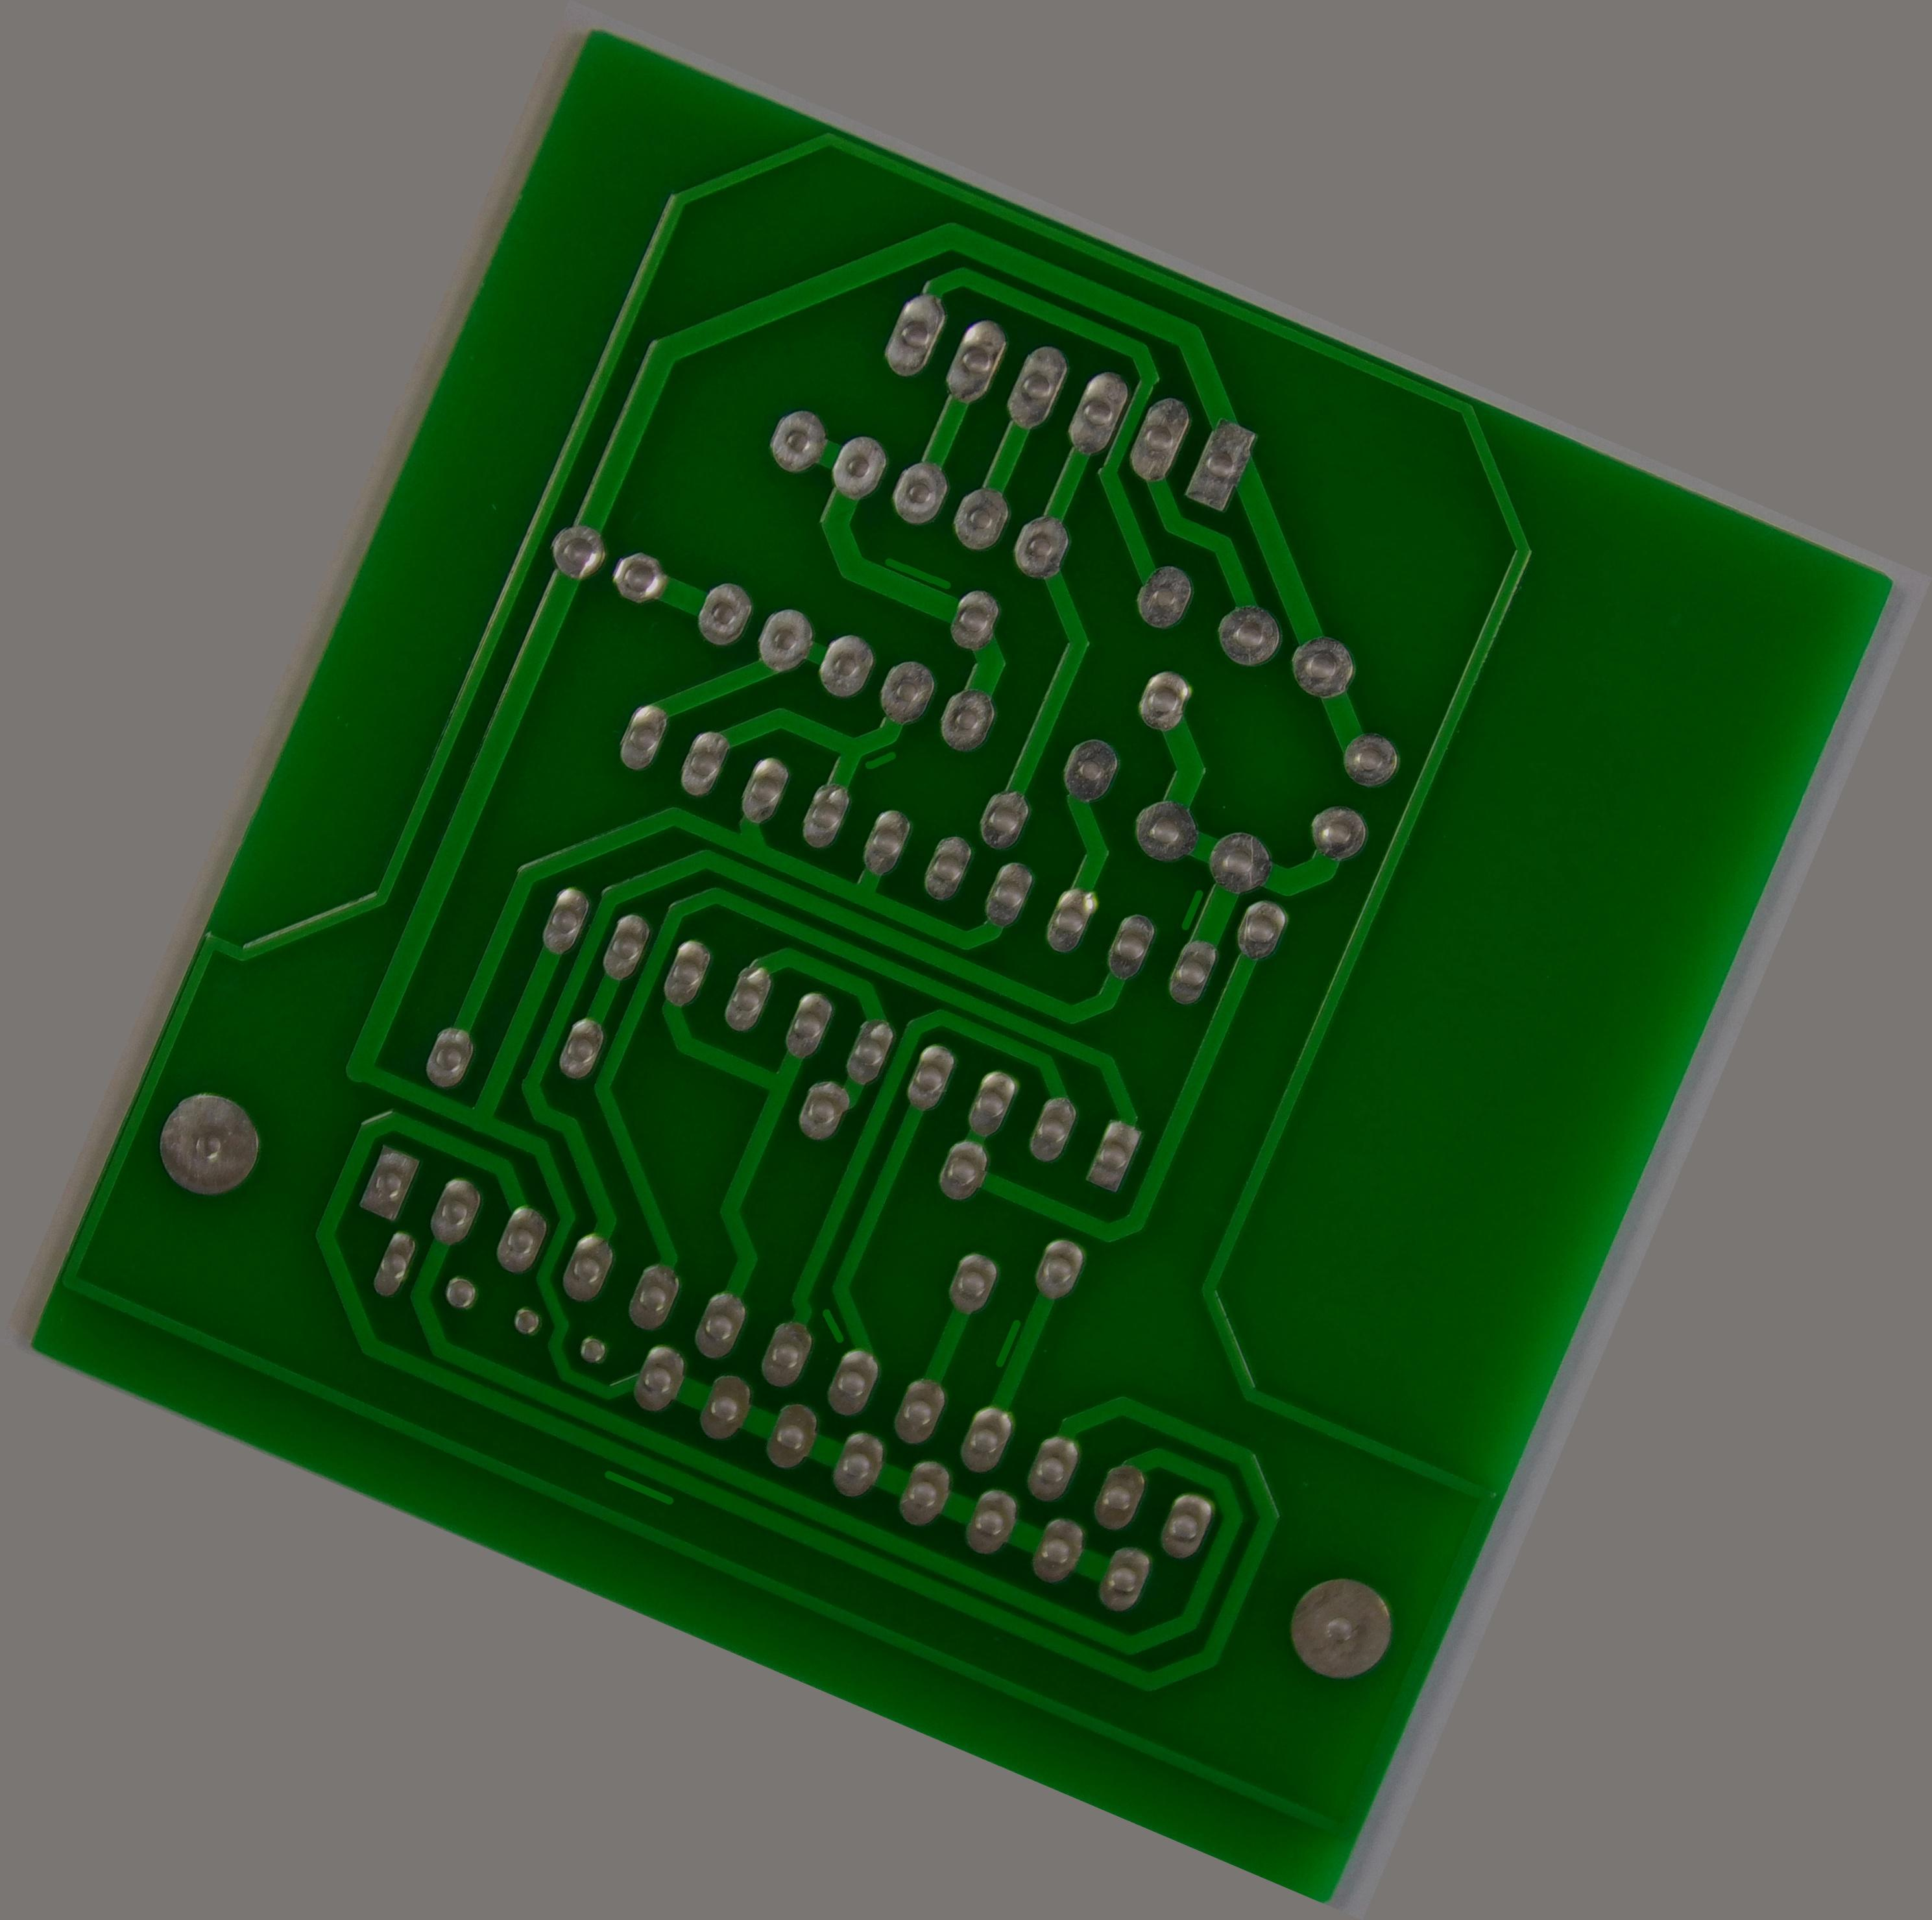spurious_copper: (587, 1454, 689, 1526), (872, 543, 960, 605), (977, 1306, 1039, 1382), (795, 1291, 863, 1356), (1167, 874, 1218, 941), (854, 735, 907, 788)
